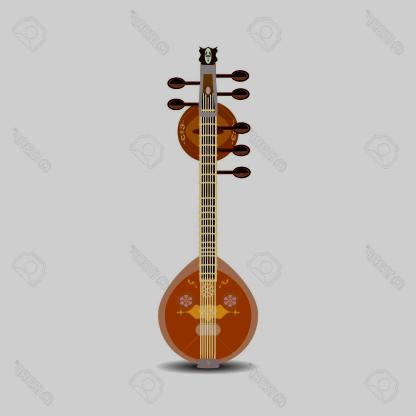Veena: (163, 34, 266, 376)
